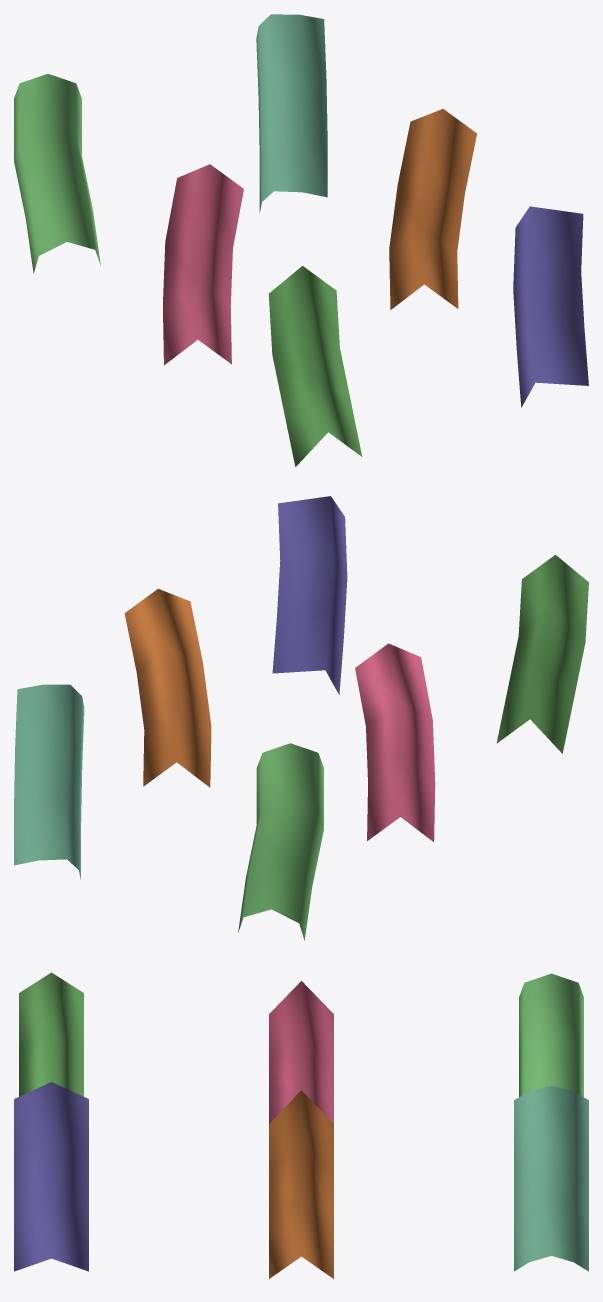
File: phong_bumped_mats_2_PolyLineTest_2023-06-04-21-23-01.gltf
The picture shows the model from 3 angles, top to bottom: view 1: azimuth 30°, elevation 25°; view 2: azimuth 150°, elevation 25°; view 3: azimuth 270°, elevation 25°; orthographic projection. The views are drawn at different scales.
Size of the model in its own units: 285 by 161 by 460.
